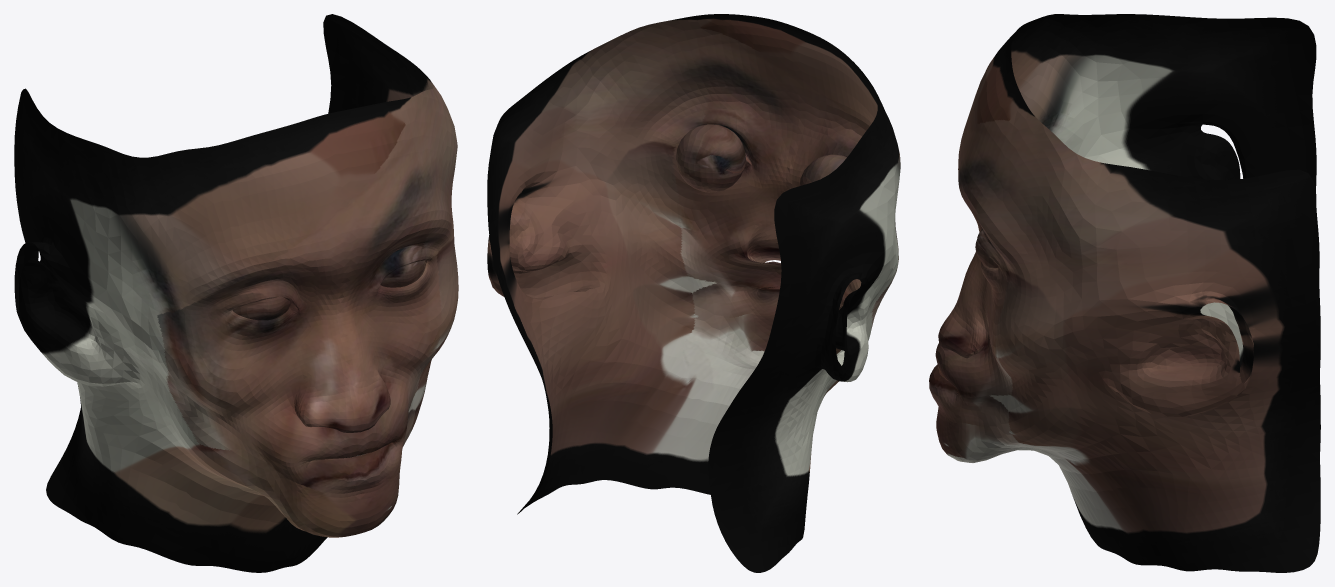
The model's file is baseline.glb.
The picture shows the model from 3 angles, left to right: view 1: azimuth 30°, elevation 25°; view 2: azimuth 150°, elevation 25°; view 3: azimuth 270°, elevation 25°; orthographic projection. The views are drawn at different scales.
Parts seen in each view (by area): view 1: geometry_0; view 2: geometry_0; view 3: geometry_0.
Boxes of the visible parts, x1,y1,x2,y2 form: geometry_0: (14,14,458,572); geometry_0: (487,14,900,572); geometry_0: (929,14,1320,572).
Bounding box in the file's own units: 0.1711 × 0.2085 × 0.1533.
1 material, 1 textured.
